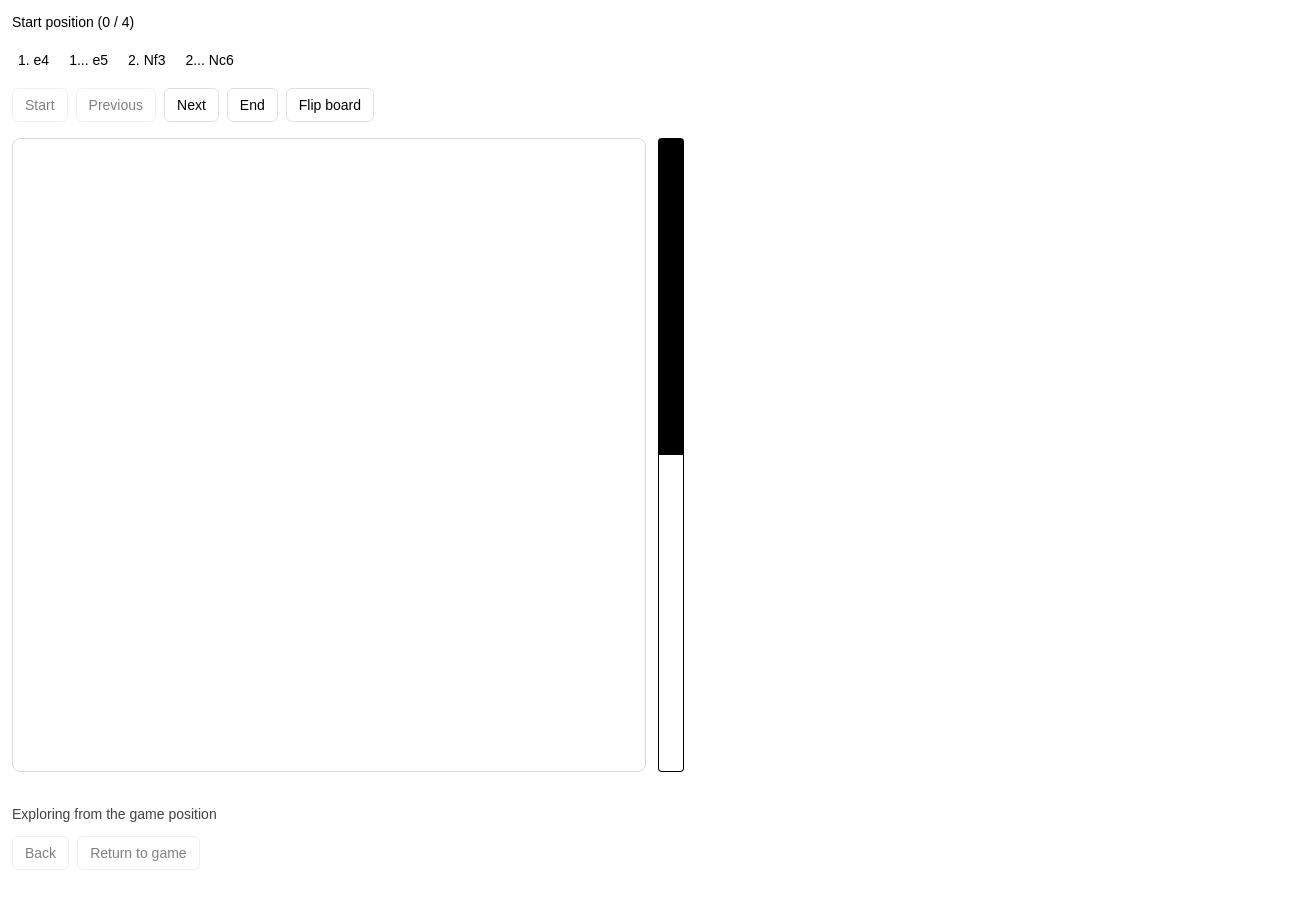
Test: ReviewBoard › returns to ply 0 with Start
This screenshot has width=1292, height=910.
Click the button "End" at (252, 105), box [227,88,278,122]
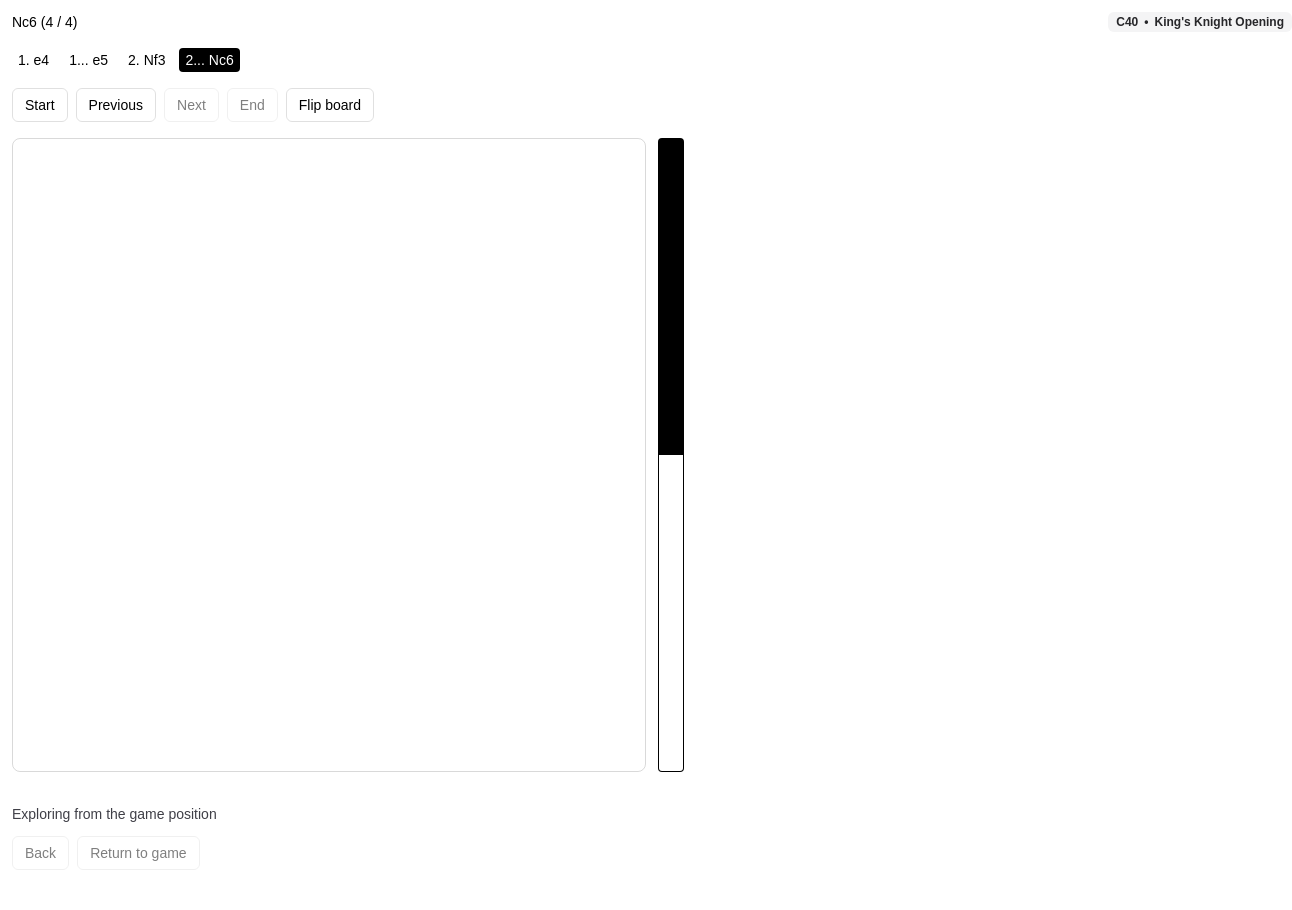
Click the button "Start" at (40, 105), box [12,88,68,122]
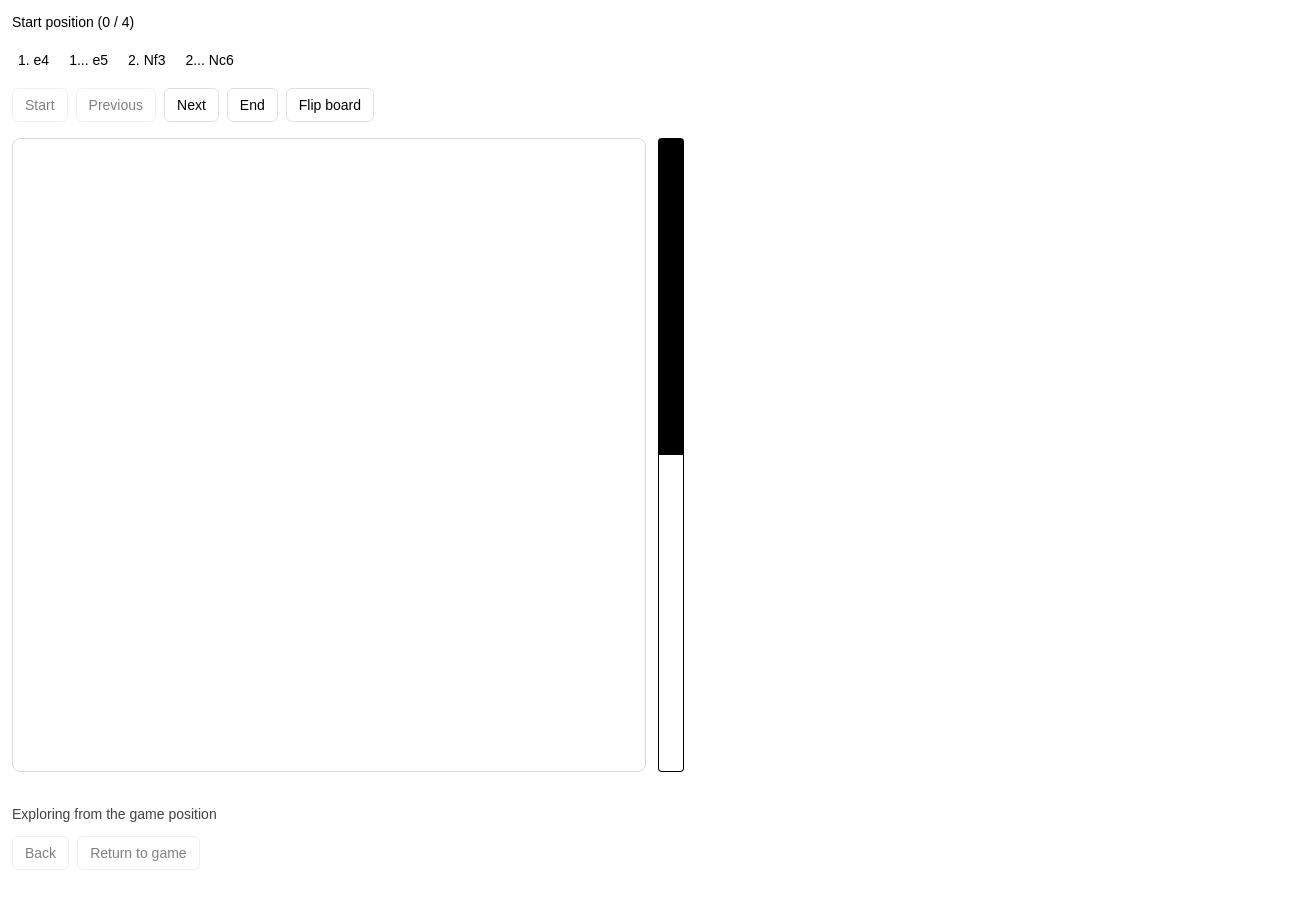
Now the text with test id "review-ply-count" reads "(0 / 4)", box [98,14,134,30]
Now the text with test id "review-ply-status" reads "Start position", box [12,14,94,30]
